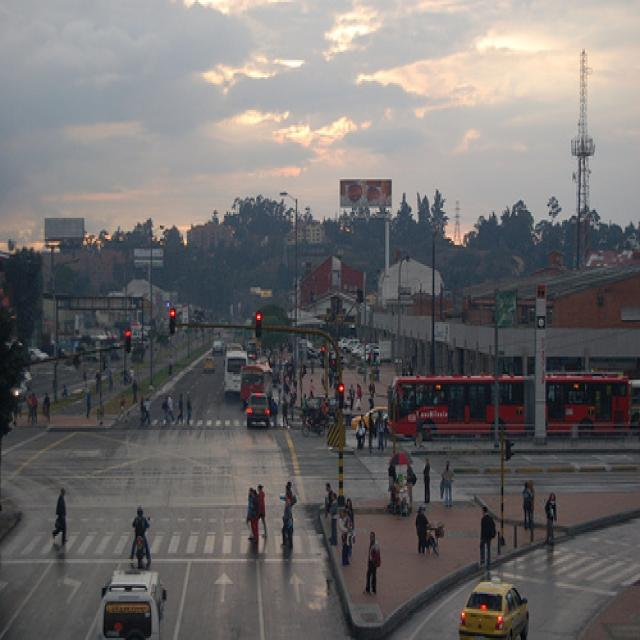motor: (301, 416, 325, 437), (135, 538, 144, 564)
